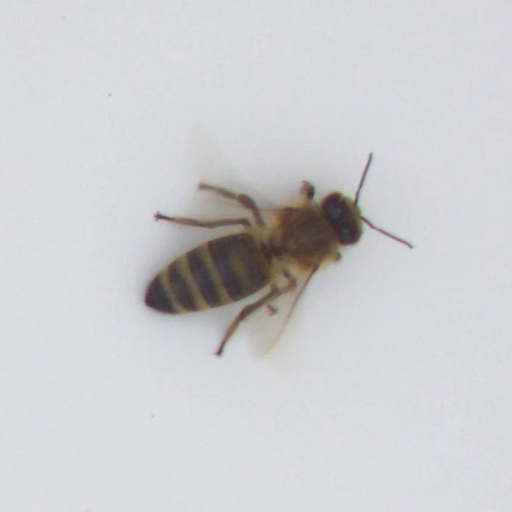Bee: (127, 185, 376, 330)
Thorax: (268, 199, 338, 268)
